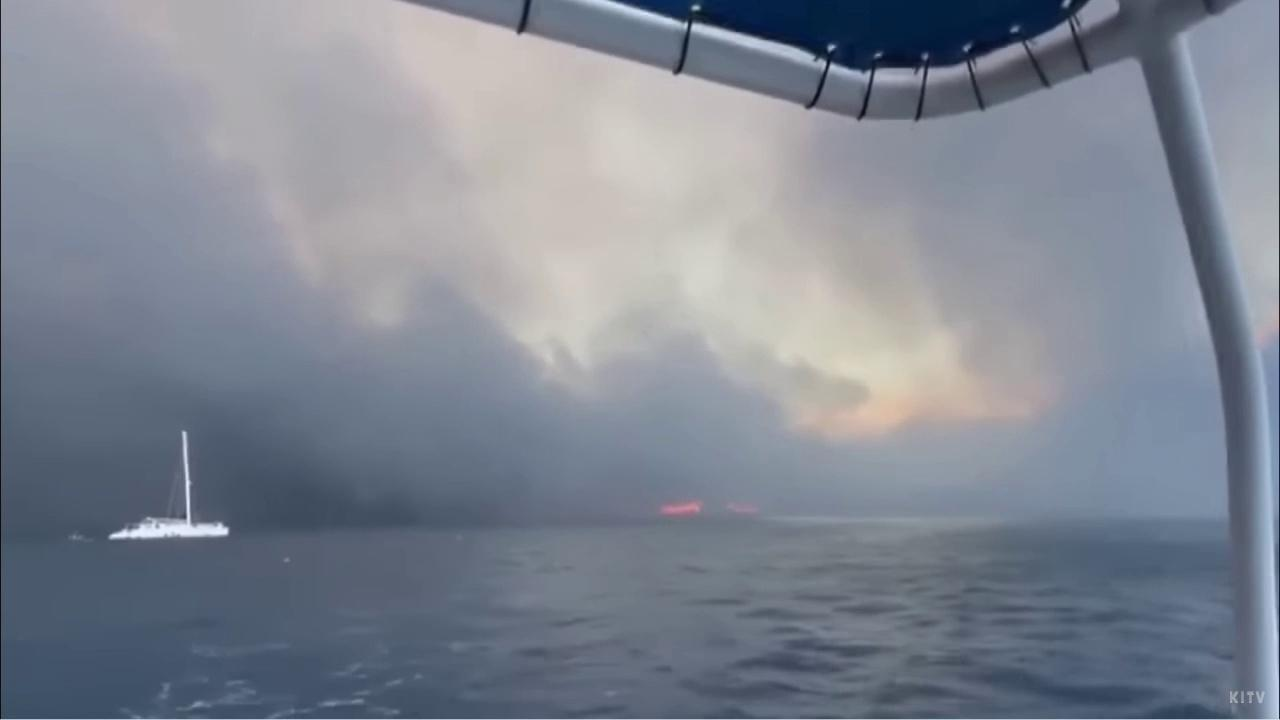fire: (655, 499, 703, 517), (728, 503, 758, 519)
smoke: (0, 0, 1280, 520)
